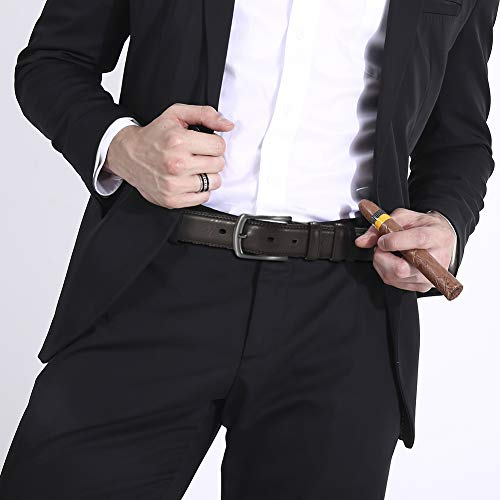F_belt: (171, 205, 368, 273)
F_dress pants: (11, 246, 412, 496)
F_shirt: (13, 1, 494, 370)
